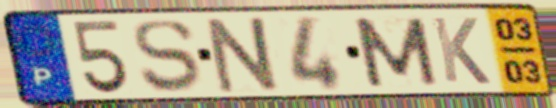4: (287, 14, 346, 94)
5: (68, 18, 130, 96)
K: (428, 15, 494, 87)
M: (349, 15, 443, 89)
N: (204, 14, 285, 96)
S: (130, 17, 203, 95)
